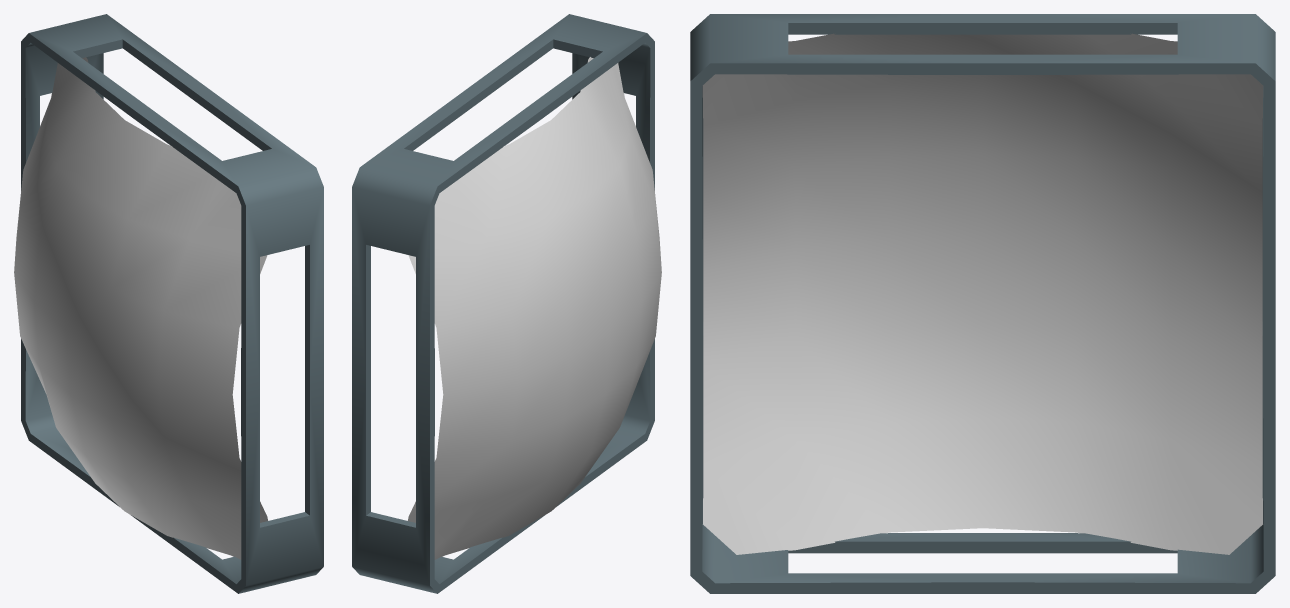
File: fant_sail_frame_5x5_B.fbx
3 views of the same model, side by side, from view 1: azimuth 30°, elevation 25°; view 2: azimuth 150°, elevation 25°; view 3: azimuth 270°, elevation 25° (orthographic). The views are drawn at different scales.
Visible parts, largest first — view 1: fant_sail_frame_5x5.001; view 2: fant_sail_frame_5x5.001; view 3: fant_sail_frame_5x5.001.
Part boxes in pixels (x1,y1,x2,y2): fant_sail_frame_5x5.001: (14,14,323,593); fant_sail_frame_5x5.001: (352,14,661,593); fant_sail_frame_5x5.001: (690,14,1275,593).
Size of the model in its own units: 187 by 500 by 500.
